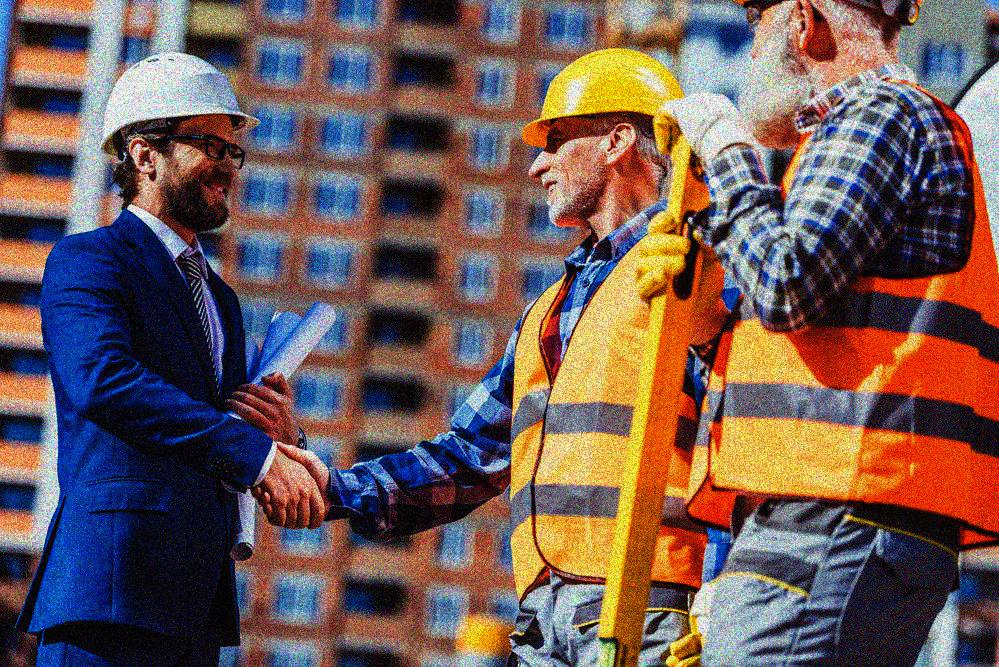helmet: (517, 50, 680, 225), (101, 51, 260, 228)
